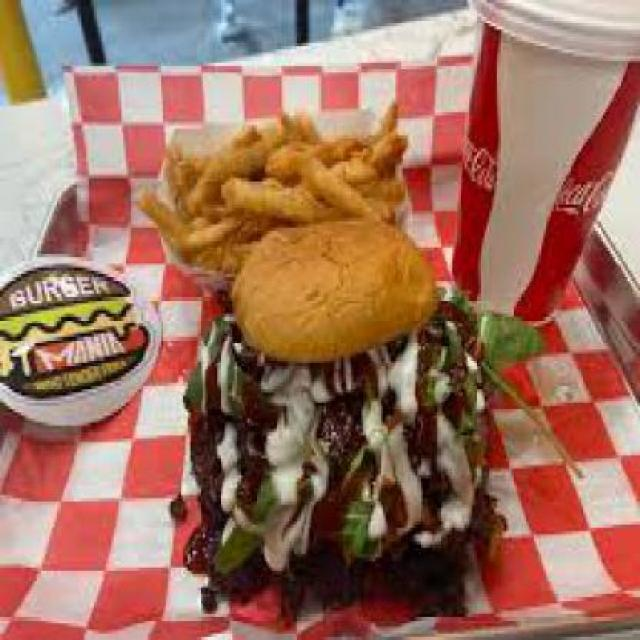french fries: (139, 92, 410, 260)
hamburger: (185, 214, 504, 614)
